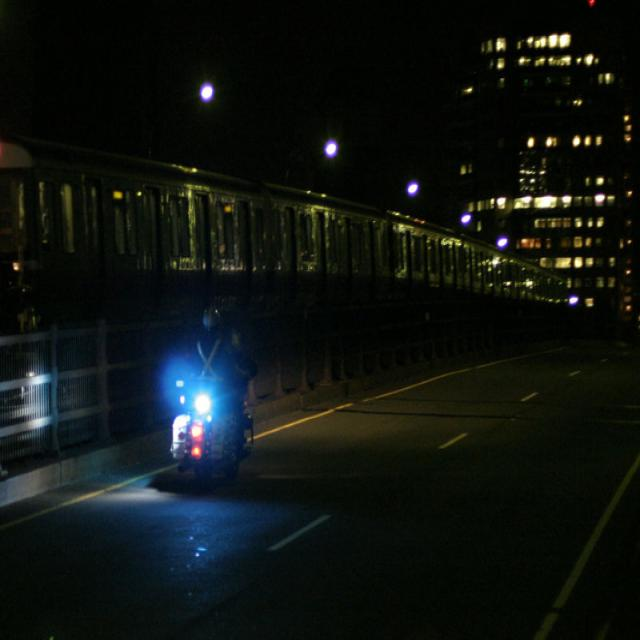Motorbike: (145, 318, 270, 503)
